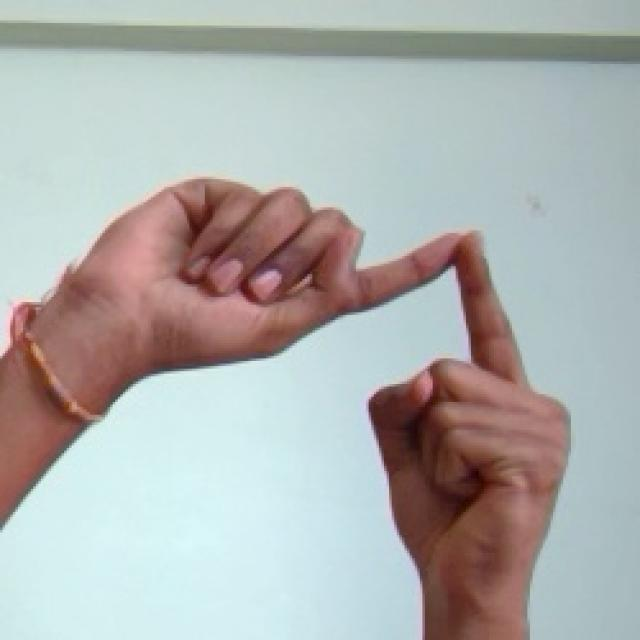Alphabet-E: (0, 179, 571, 639)
